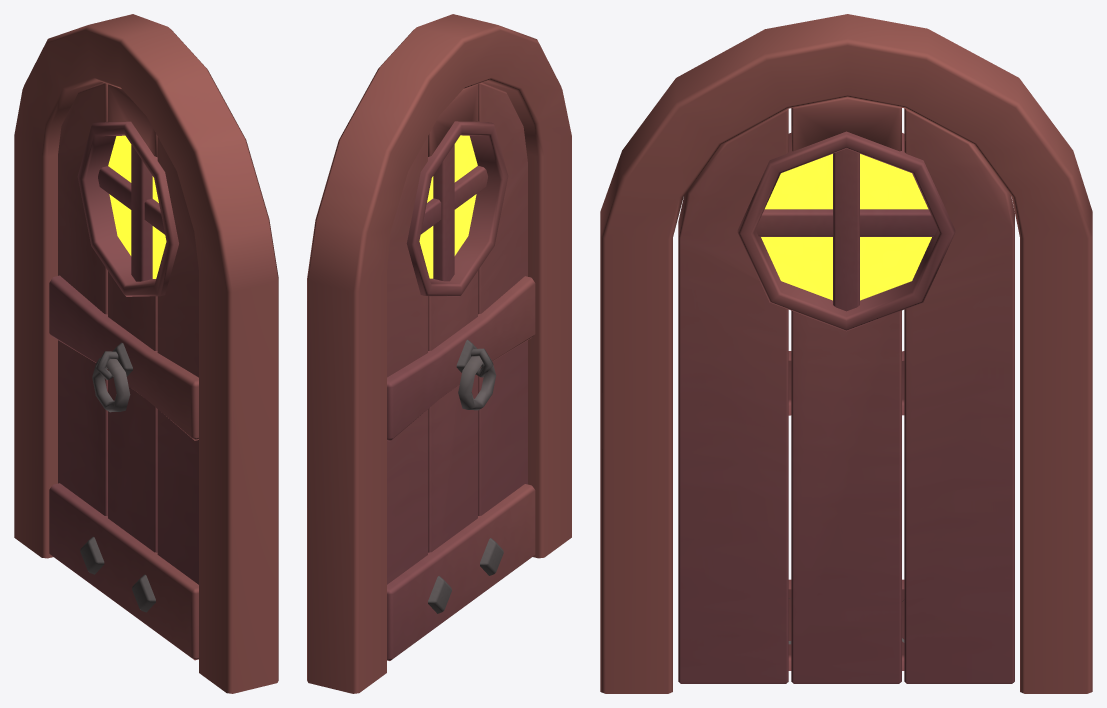
File: Wood_arch_09.glb
3 views of the same model, side by side, from view 1: azimuth 30°, elevation 25°; view 2: azimuth 150°, elevation 25°; view 3: azimuth 270°, elevation 25° (orthographic). The views are drawn at different scales.
Parts seen in each view (by area): view 1: Wood.arch.09; view 2: Wood.arch.09; view 3: Wood.arch.09.
Boxes of the visible parts, left/top/right/bottom form: Wood.arch.09: left=14, top=14, right=278, bottom=693; Wood.arch.09: left=307, top=14, right=571, bottom=693; Wood.arch.09: left=600, top=14, right=1092, bottom=693.
Size of the model in its own units: 0.3096 by 2.18 by 1.49.
Materials: 2 (2 with a texture image).
